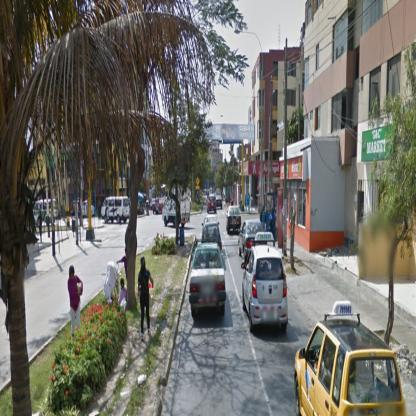Peaton: (138, 256, 155, 346), (68, 268, 84, 343), (270, 208, 275, 238), (262, 208, 267, 231), (246, 195, 248, 213)
Pista: (173, 212, 412, 414), (1, 213, 166, 391)
Vehiculo: (294, 317, 408, 416), (243, 246, 289, 338), (190, 246, 227, 327), (239, 223, 268, 266), (163, 190, 190, 229), (102, 197, 130, 225), (36, 200, 59, 228), (202, 224, 223, 254), (38, 212, 44, 244), (208, 196, 217, 214)
